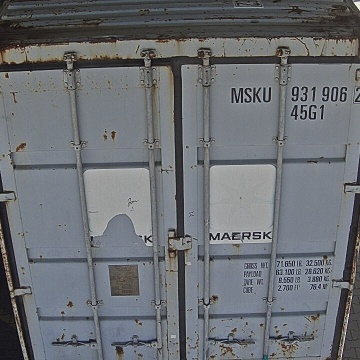serial_id: (231, 86, 360, 103)
